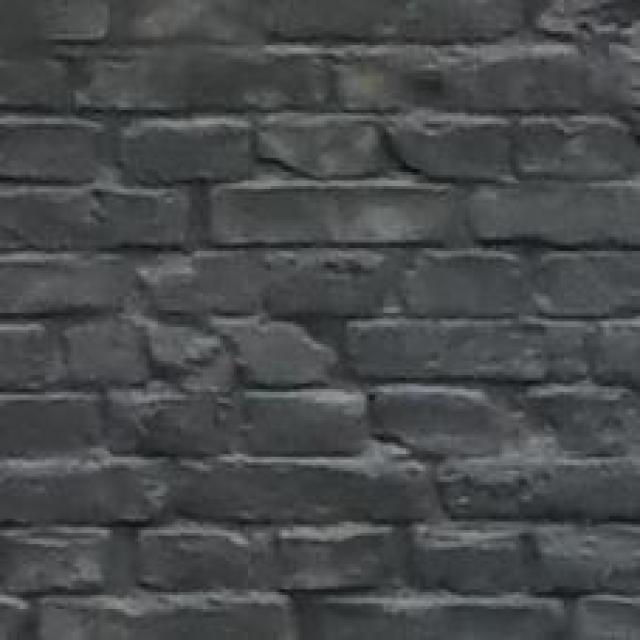Crack: (99, 145, 579, 640)
